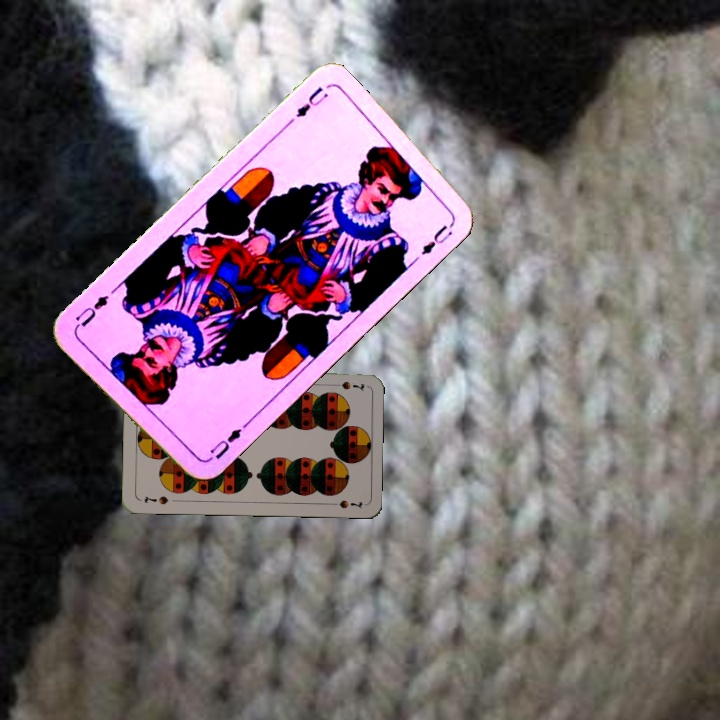EU: (202, 424, 244, 465), (291, 82, 331, 121)
S7: (327, 377, 366, 393), (140, 492, 171, 507)
